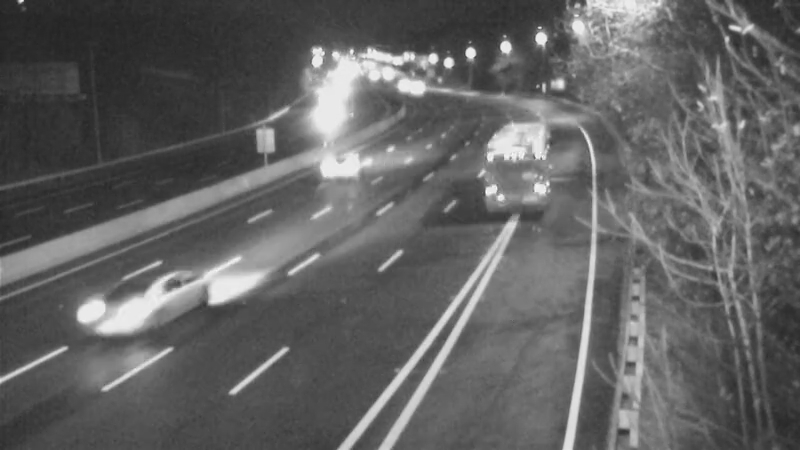vehicle: (71, 259, 181, 369), (306, 122, 386, 202), (349, 51, 399, 101), (377, 61, 427, 111), (393, 66, 443, 116), (497, 120, 547, 170), (299, 82, 349, 132)
